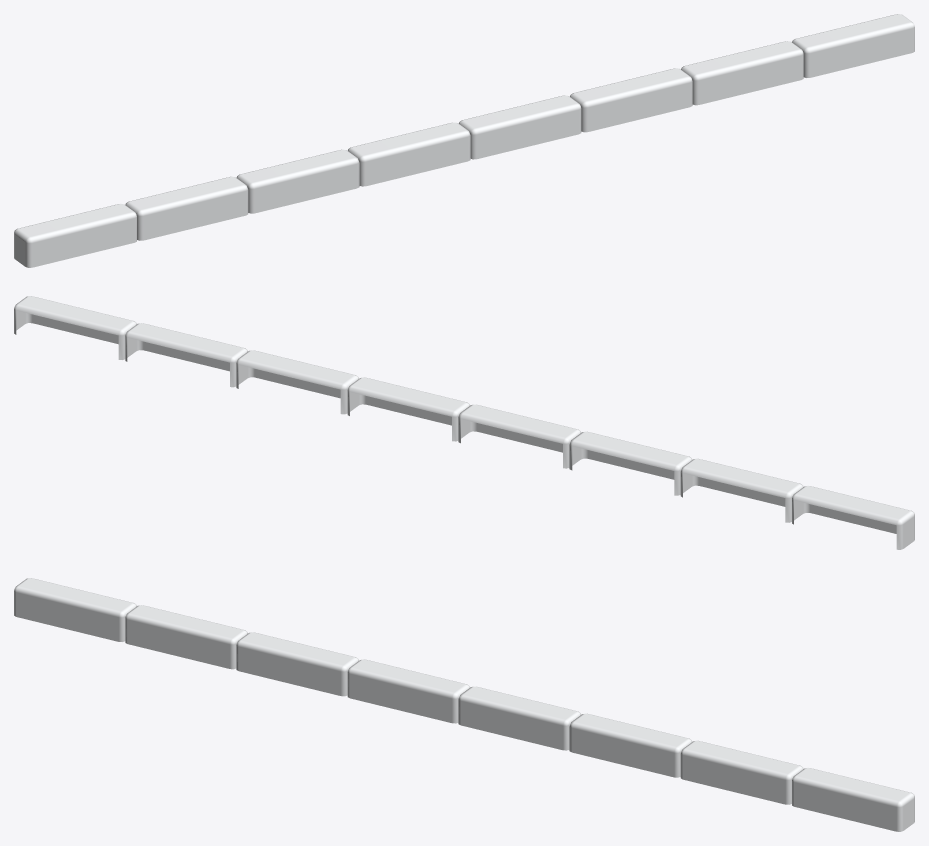
File: Pavement_Block.fbx
The picture shows the model from 3 angles, top to bottom: view 1: azimuth 30°, elevation 25°; view 2: azimuth 150°, elevation 25°; view 3: azimuth 330°, elevation 25°; orthographic projection.
Visible parts, largest first — view 1: Pavement_Block; view 2: Pavement_Block; view 3: Pavement_Block.
Part boxes in pixels (bbox=[...]): Pavement_Block: bbox=[14, 14, 914, 267]; Pavement_Block: bbox=[14, 296, 914, 549]; Pavement_Block: bbox=[14, 578, 914, 831].
Size of the model in its own units: 1600 by 50 by 50.
